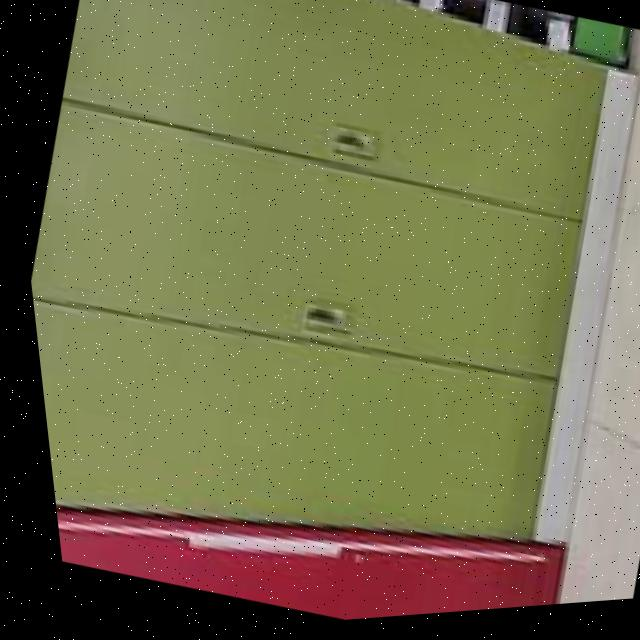dolap: (0, 0, 640, 640), (37, 398, 559, 640)
